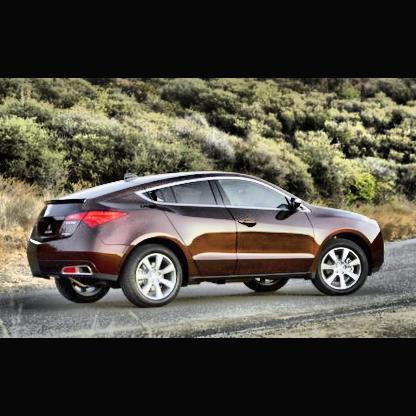Acura ZDX Hatchback 2012: (26, 171, 386, 310)
